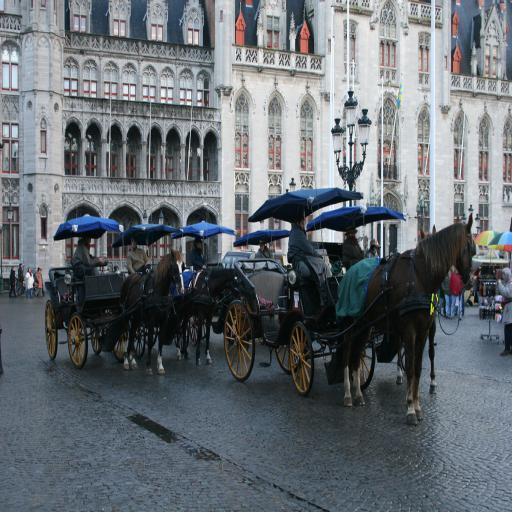horse: (334, 209, 477, 429), (115, 244, 187, 380), (173, 266, 241, 366), (394, 314, 436, 398)
